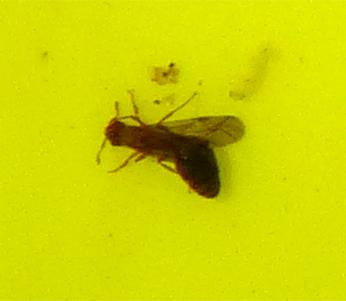Hymenoptera: (100, 100, 246, 201)
